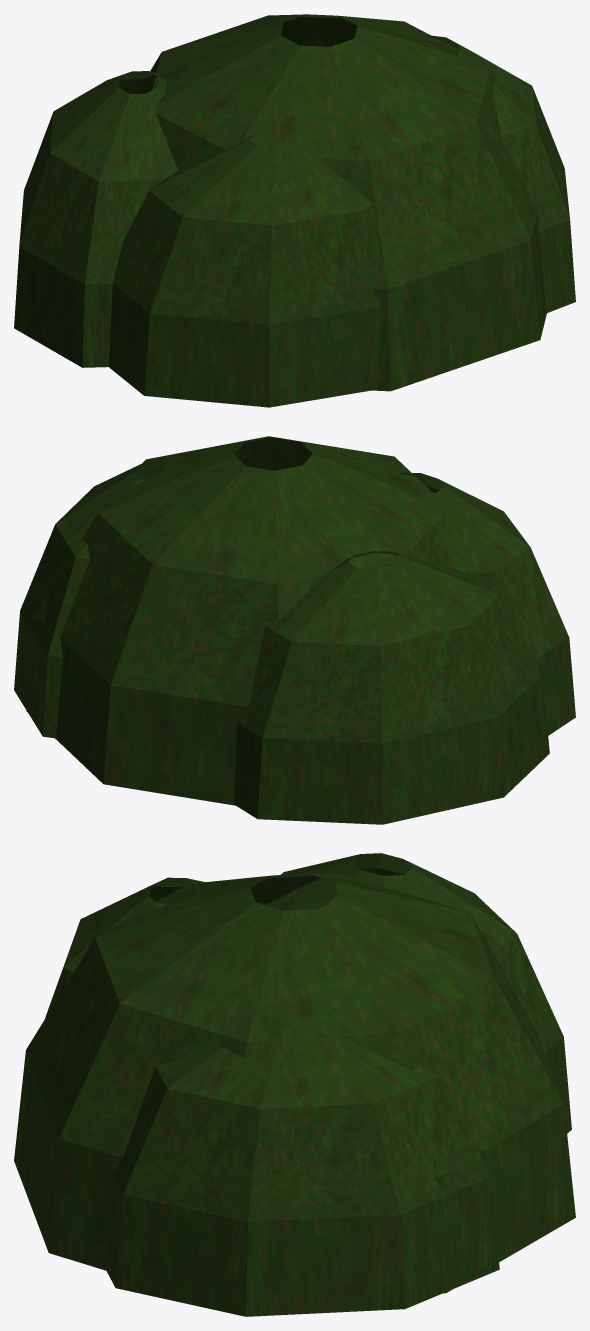
File: Bush.fbx
3 views of the same model, one above another, from view 1: azimuth 30°, elevation 25°; view 2: azimuth 150°, elevation 25°; view 3: azimuth 270°, elevation 25° (orthographic). The views are drawn at different scales.
Visible parts, largest first — view 1: Circle.001, Circle.002, Circle.003, Circle; view 2: Circle.001, Circle.003, Circle.002, Circle; view 3: Circle.001, Circle, Circle.003, Circle.002.
Part boxes in pixels (<box>): Circle.001: <box>137,14,546,391</box>; Circle.002: <box>108,132,381,407</box>; Circle.003: <box>14,71,177,367</box>; Circle: <box>424,35,575,312</box>; Circle.001: <box>26,436,444,805</box>; Circle.003: <box>234,551,549,824</box>; Circle.002: <box>399,473,575,735</box>; Circle: <box>14,458,162,738</box>; Circle.001: <box>14,873,575,1293</box>; Circle: <box>105,1010,499,1316</box>; Circle.003: <box>265,853,571,1133</box>; Circle.002: <box>45,877,205,1018</box>.
Bounding box in the file's own units: 274 × 136 × 233.
